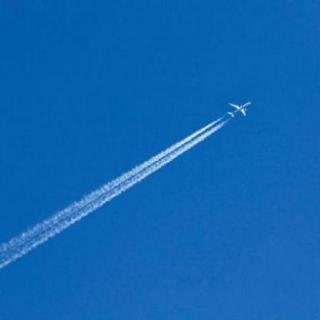Contrails: (0, 10, 320, 304)
